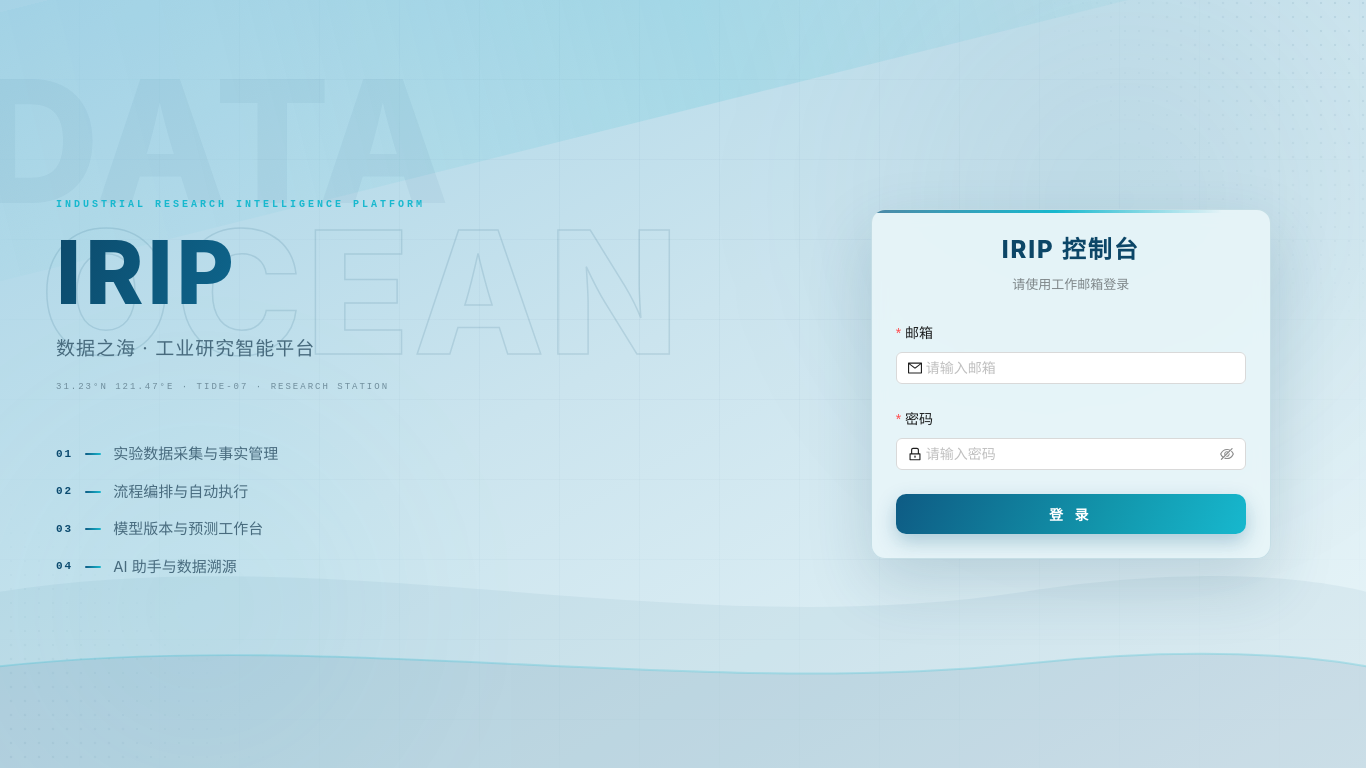
Test: LoginPage › logs in and returns to the requested route
# 使用 findByLabelText 等待异步认证初始化完成后 LoginPage 渲染
Type "researcher@irip.local" into the field labelled "邮箱" at (1080, 368), box 926,357 -> 1234,379
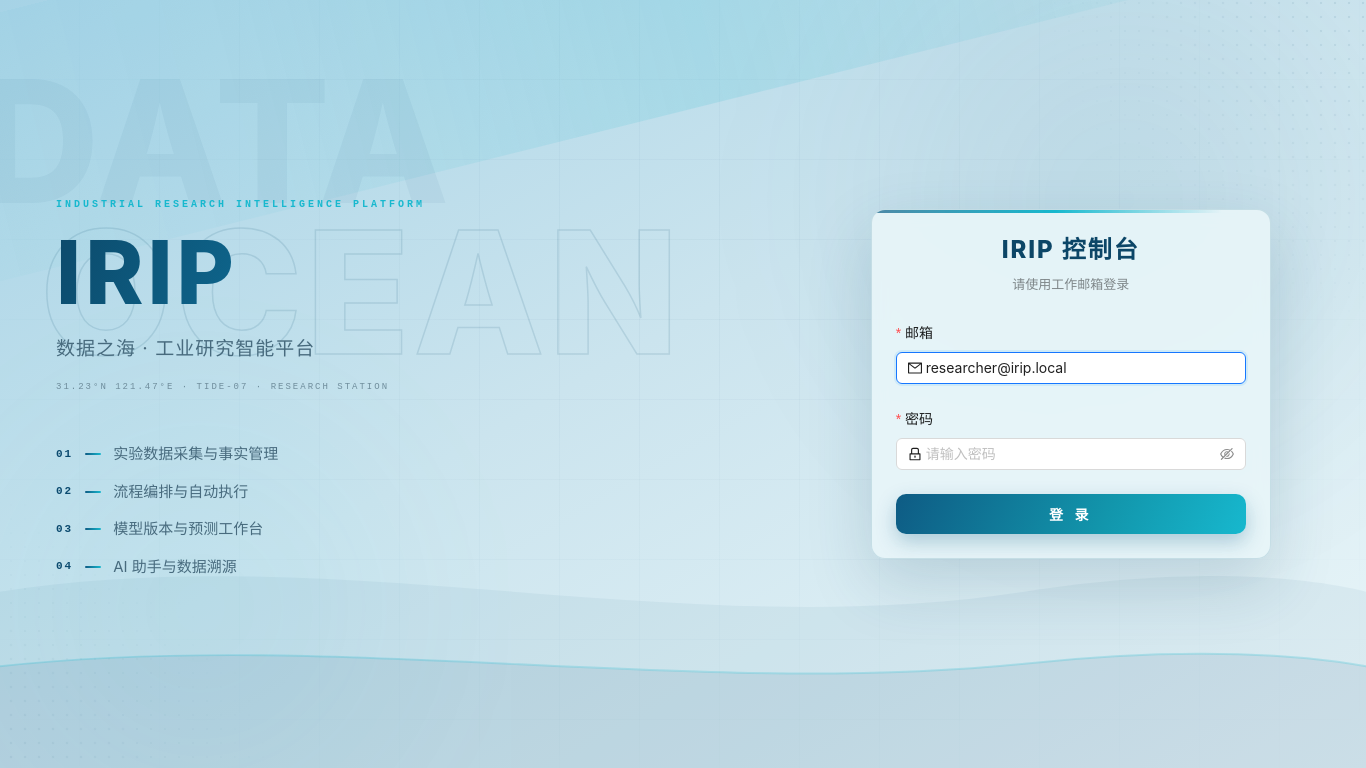
Type "Correct-Horse-2026!" into the password field labelled "密码" at (1071, 454), box 926,443 -> 1216,465
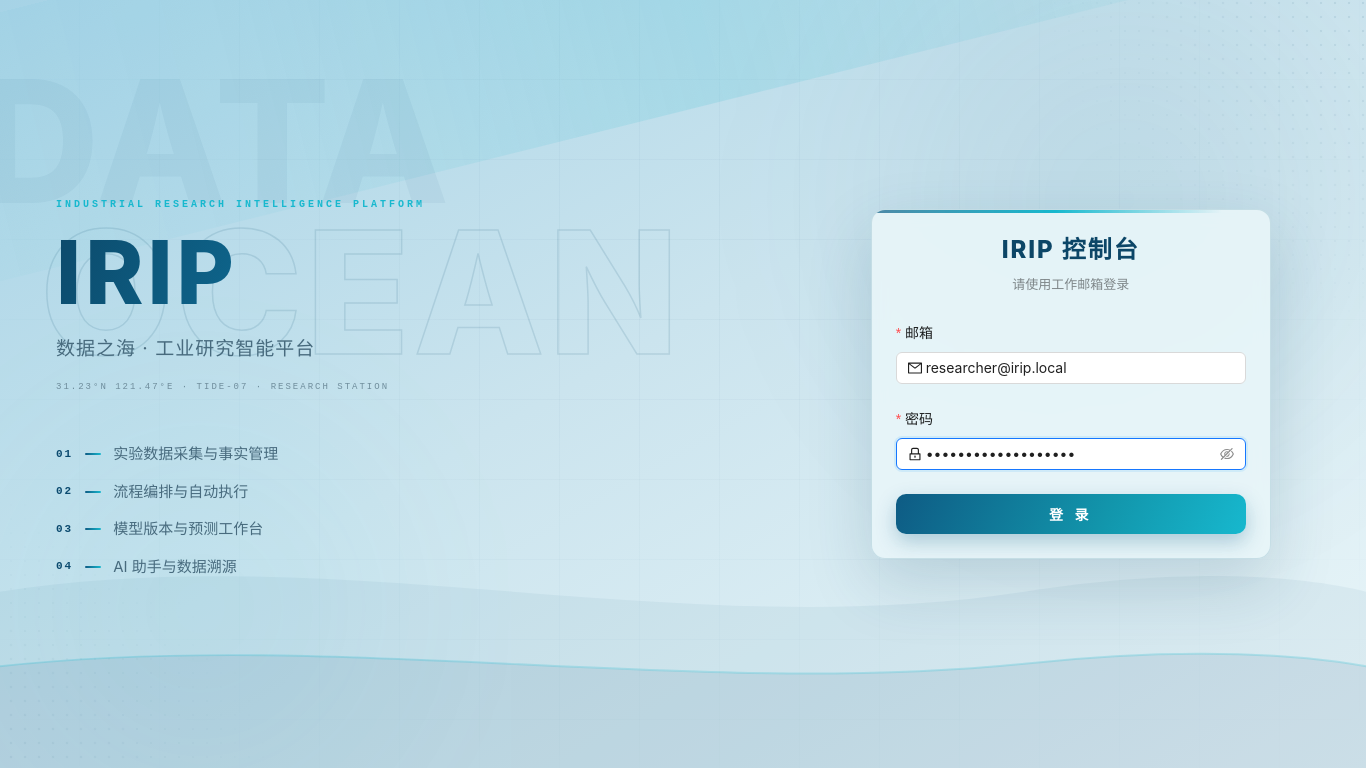
Click the button "登 录" at (1071, 514), box 896,494 -> 1246,534
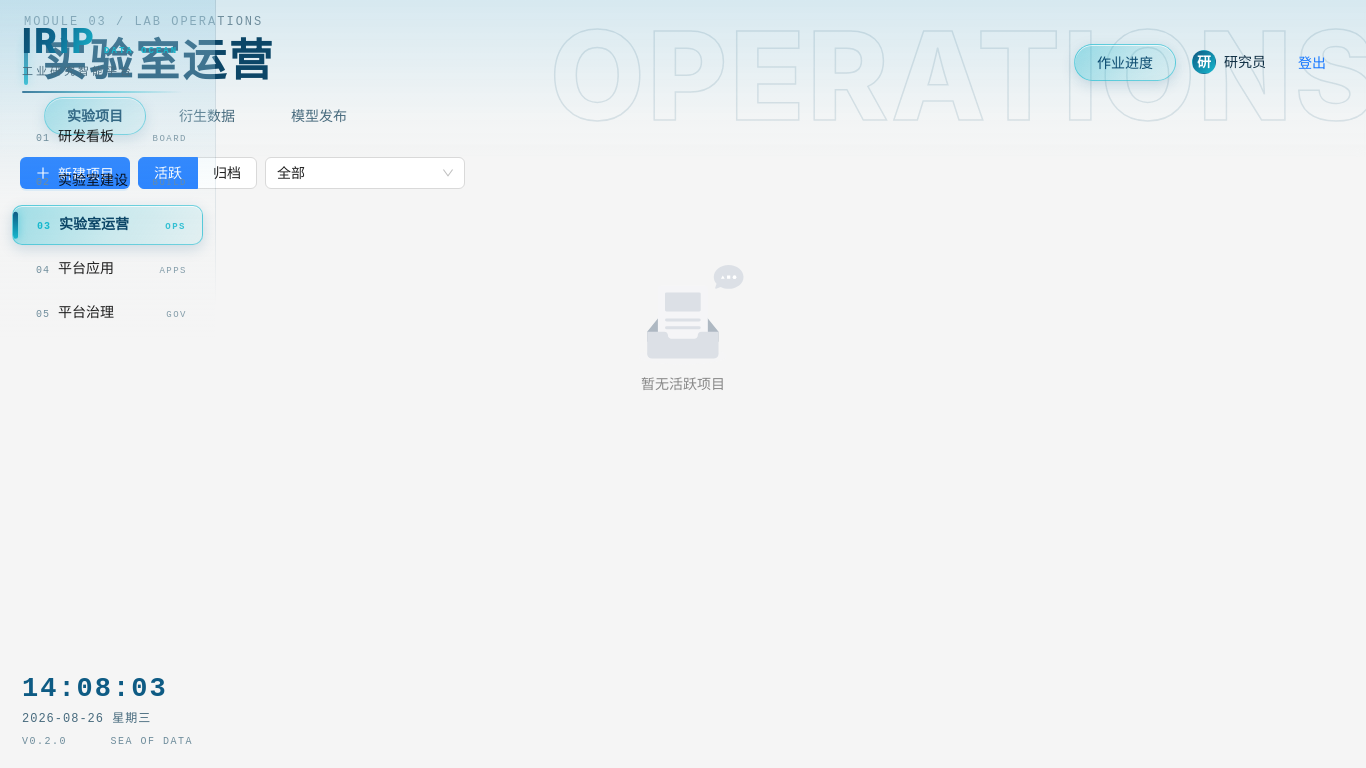
Expected: the heading "实验室运营" is shown, 42,36 -> 275,85
